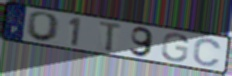1: (68, 17, 83, 47)
9: (128, 26, 156, 58)
C: (192, 37, 224, 68)
G: (160, 33, 191, 63)
O: (25, 11, 63, 44)
T: (98, 20, 124, 53)
